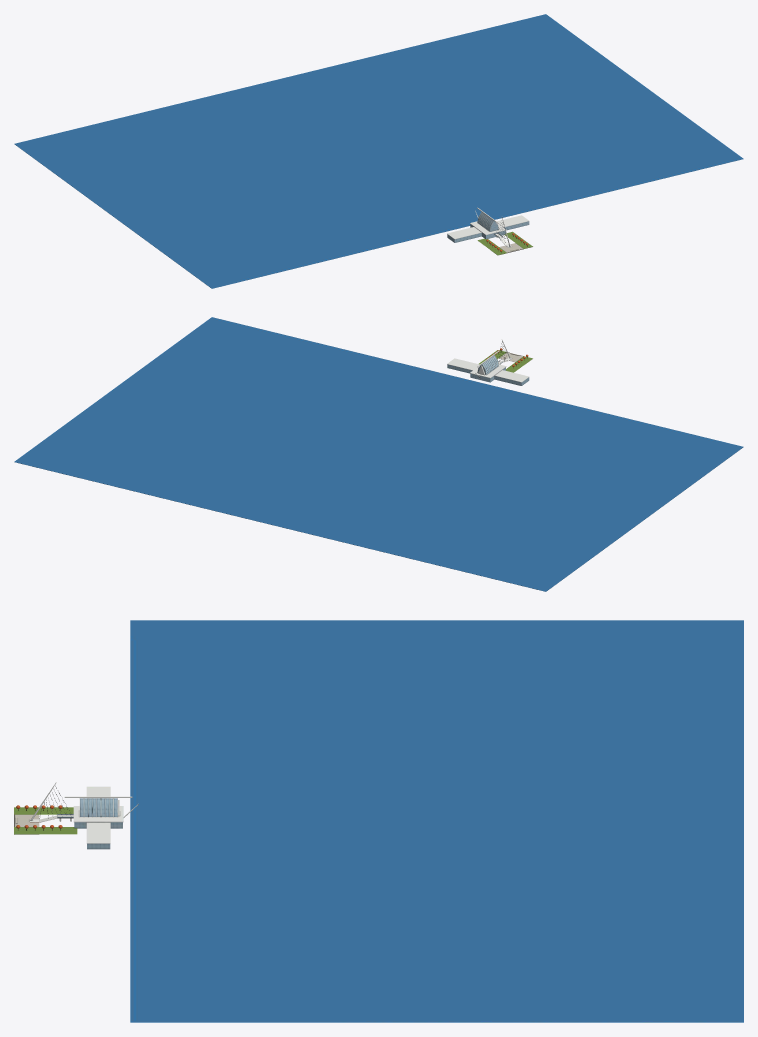
The model's file is museo_calatrava.glb.
3 views of the same model, one above another, from view 1: azimuth 30°, elevation 25°; view 2: azimuth 150°, elevation 25°; view 3: azimuth 270°, elevation 25° (orthographic). The views are drawn at different scales.
Visible parts, largest first — view 1: museo_calatrava; view 2: museo_calatrava; view 3: museo_calatrava.
Boxes of the visible parts, left/top/right/bottom form: museo_calatrava: left=14, top=14, right=743, bottom=288; museo_calatrava: left=14, top=317, right=743, bottom=591; museo_calatrava: left=14, top=620, right=743, bottom=1022.
Bounding box in the file's own units: 900 × 40.88 × 690.
Materials: 1 (1 with a texture image).
